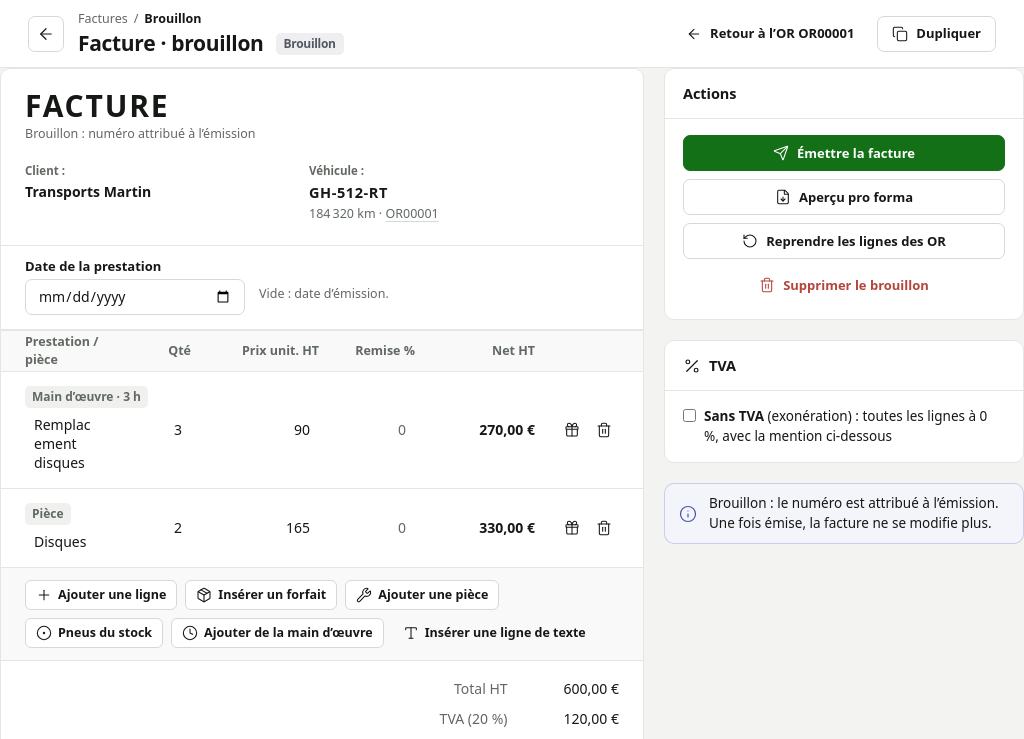
Test: brouillon de facture › sans adresse du client : émission bloquée
Click the button "Émettre la facture".
click(844, 153)  # box [683,135,1005,171]
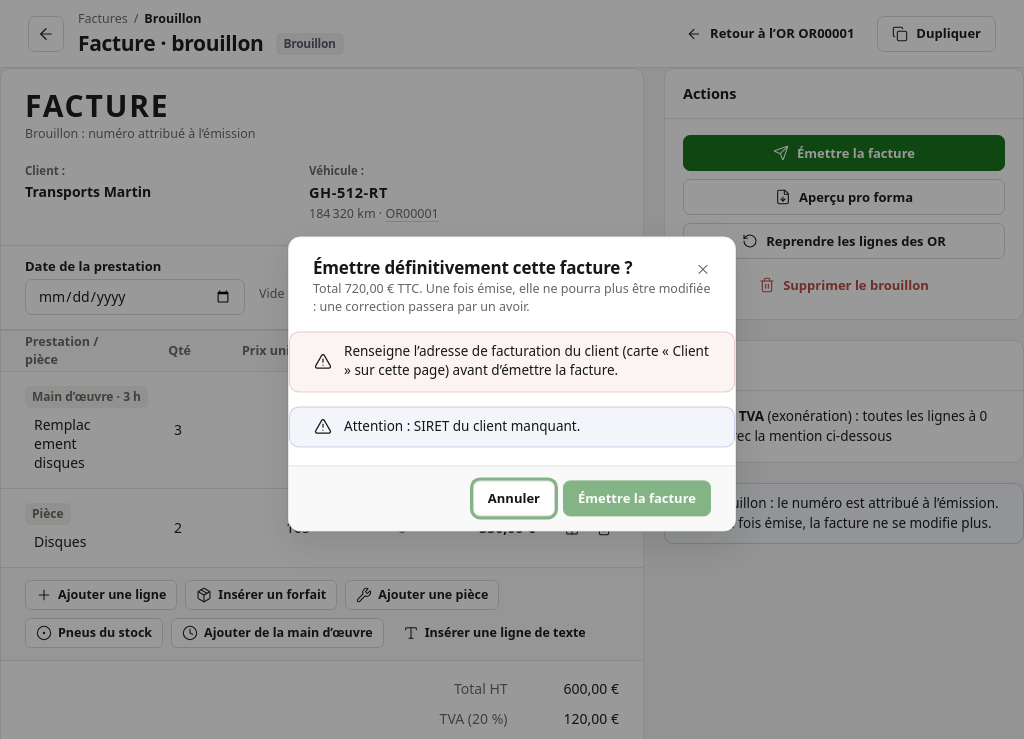
Check: the dialog "Émettre définitivement cette facture ?" shows "Renseigne l’adresse de facturation du client", box [344,342,709,380]
Check: the button "Émettre la facture" is disabled, box [563,481,711,517]
